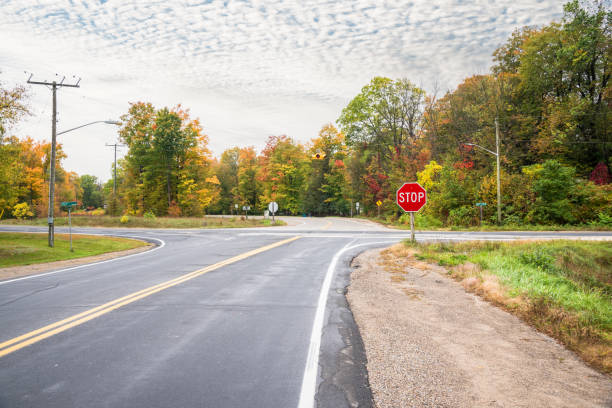StopSign: (396, 182, 426, 212)
